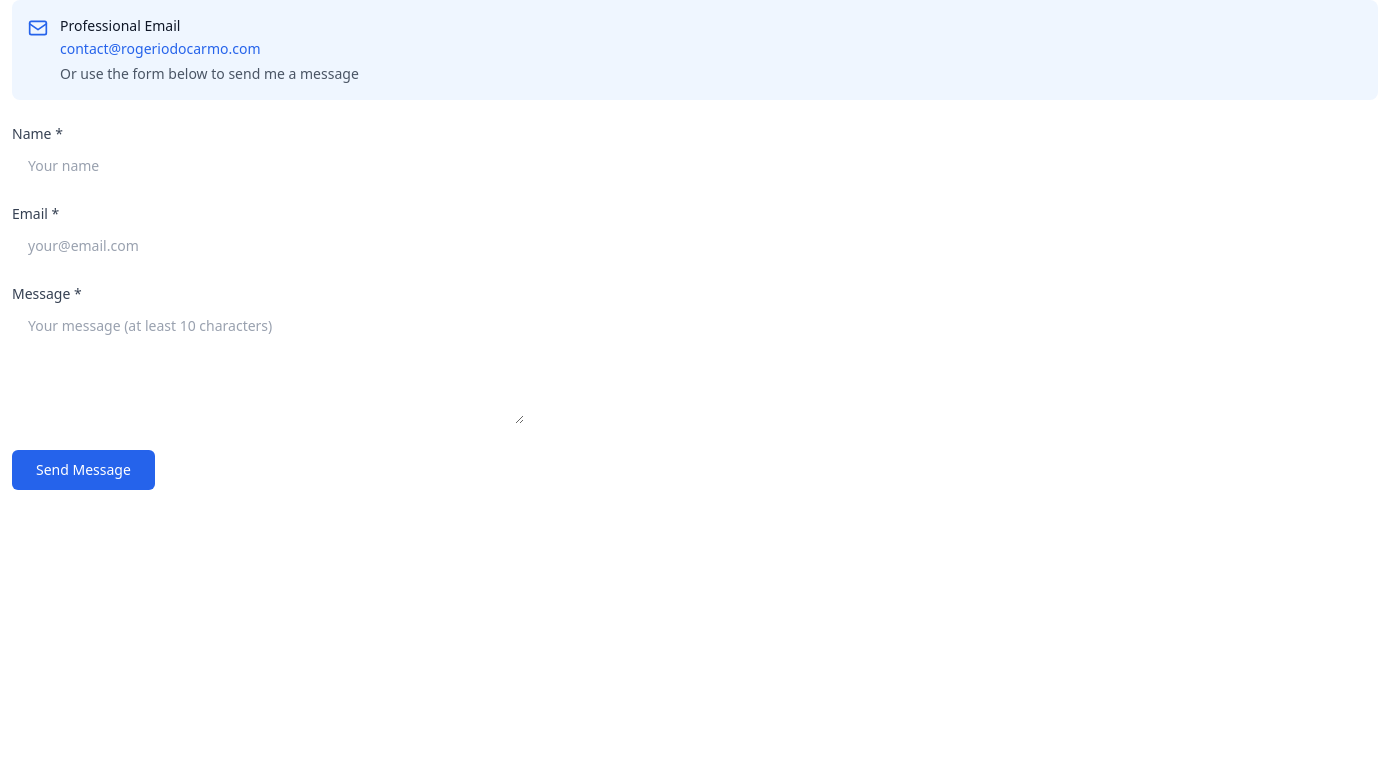
Test: ContactForm Component › shows validation error when name is too short
Type "A" into the field labelled "Name *" at (268, 166), box [12,148,524,184]
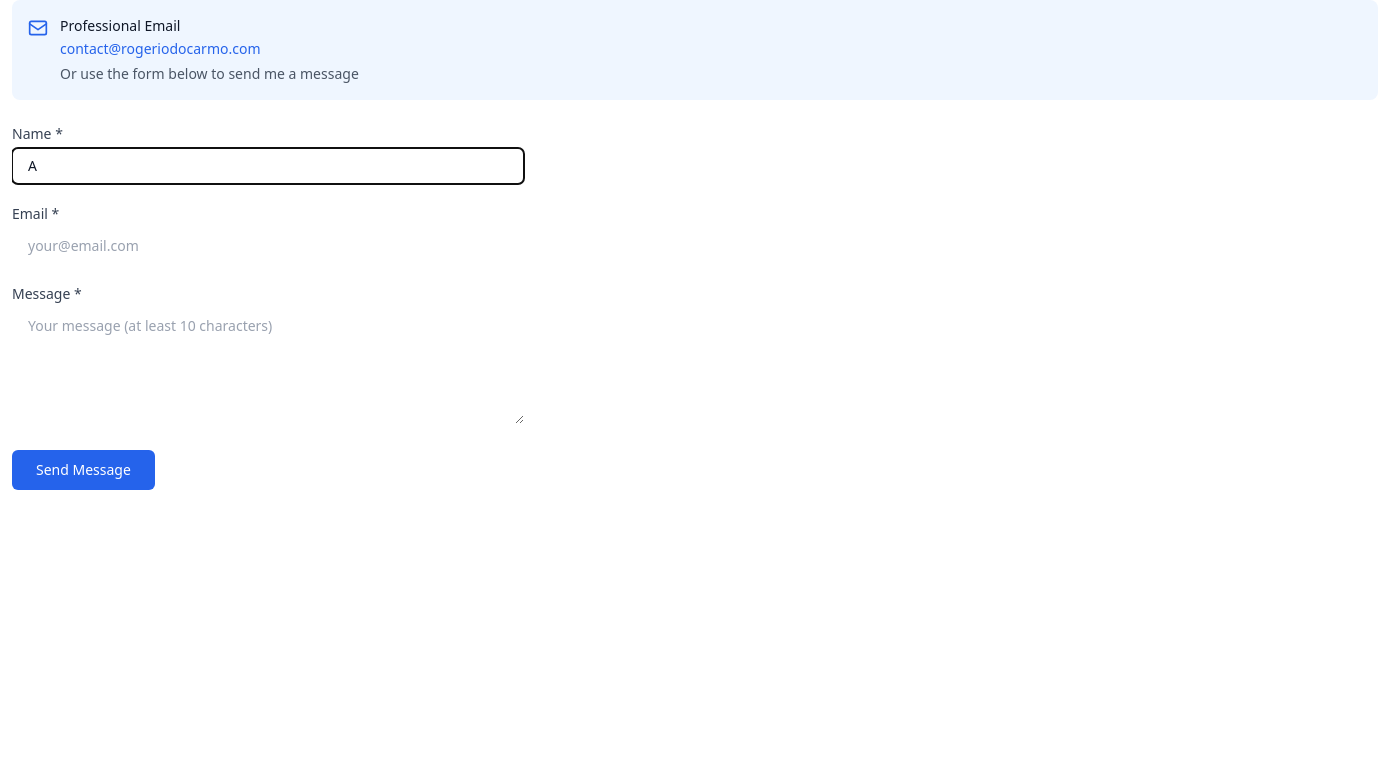
Click the button "Send Message" at (83, 470), box [12,450,155,490]
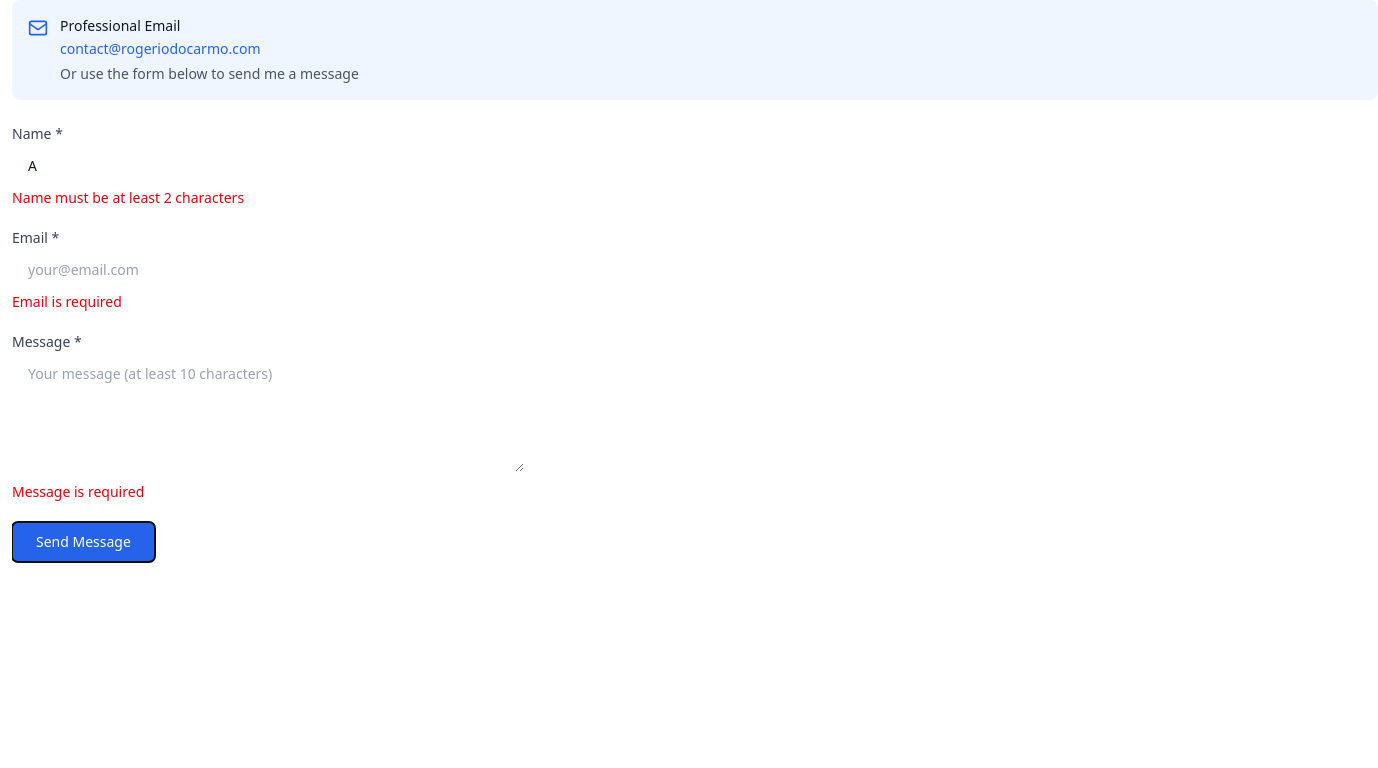
Expected: the text "Name must be at least 2 characters" is shown, [12,188,244,207]
